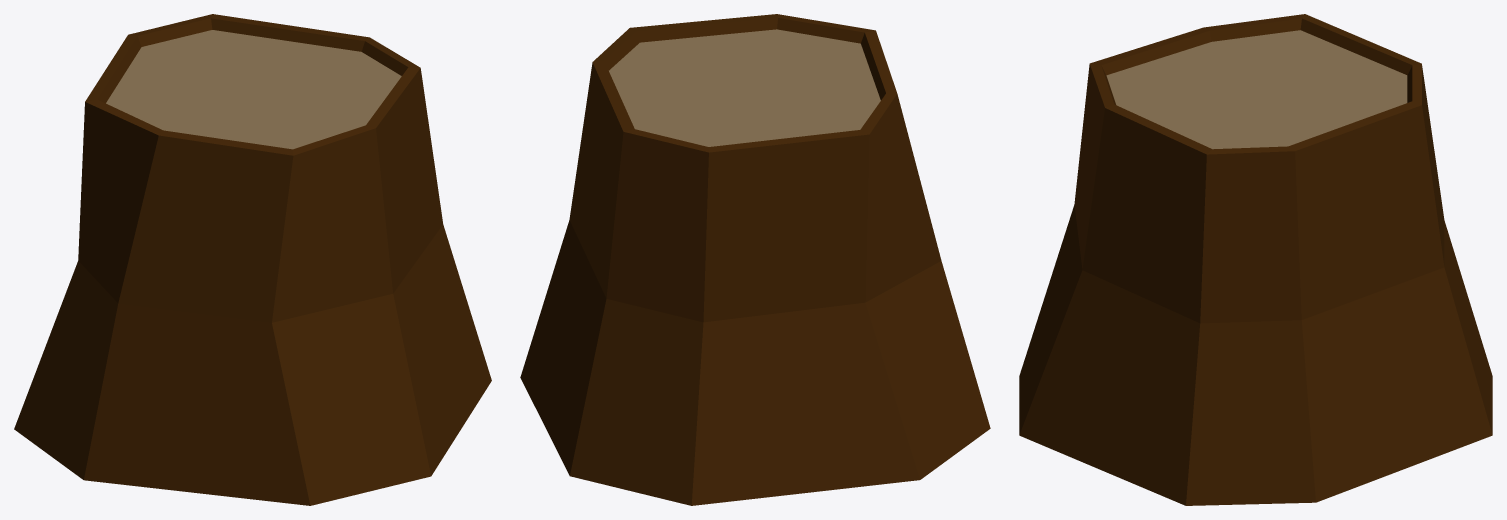
The model's file is stump1.fbx.
3 renders of one model, left to right at view 1: azimuth 30°, elevation 25°; view 2: azimuth 150°, elevation 25°; view 3: azimuth 270°, elevation 25°, orthographic.
Visible parts, largest first — view 1: Stump1; view 2: Stump1; view 3: Stump1.
Part boxes in pixels (box(x1,y1,x2,y2)): Stump1: box(14, 14, 491, 505); Stump1: box(520, 14, 990, 505); Stump1: box(1019, 14, 1492, 505).
Bounding box in the file's own units: 267 × 200 × 267.
